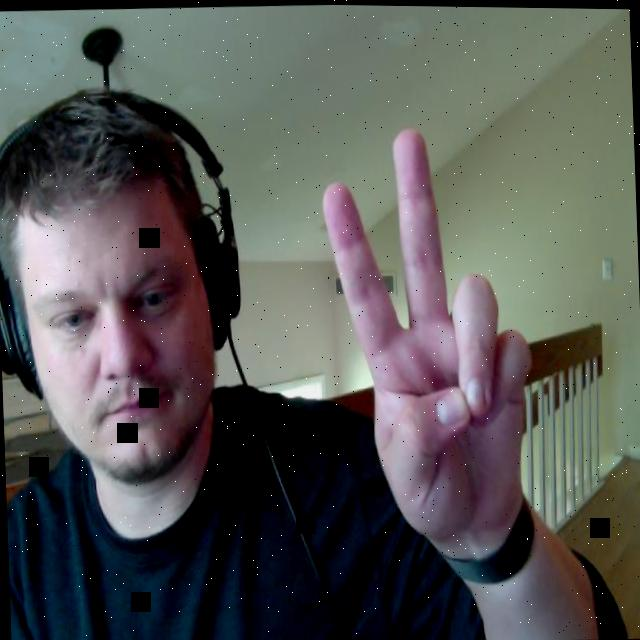Scissors: (315, 109, 553, 560)
